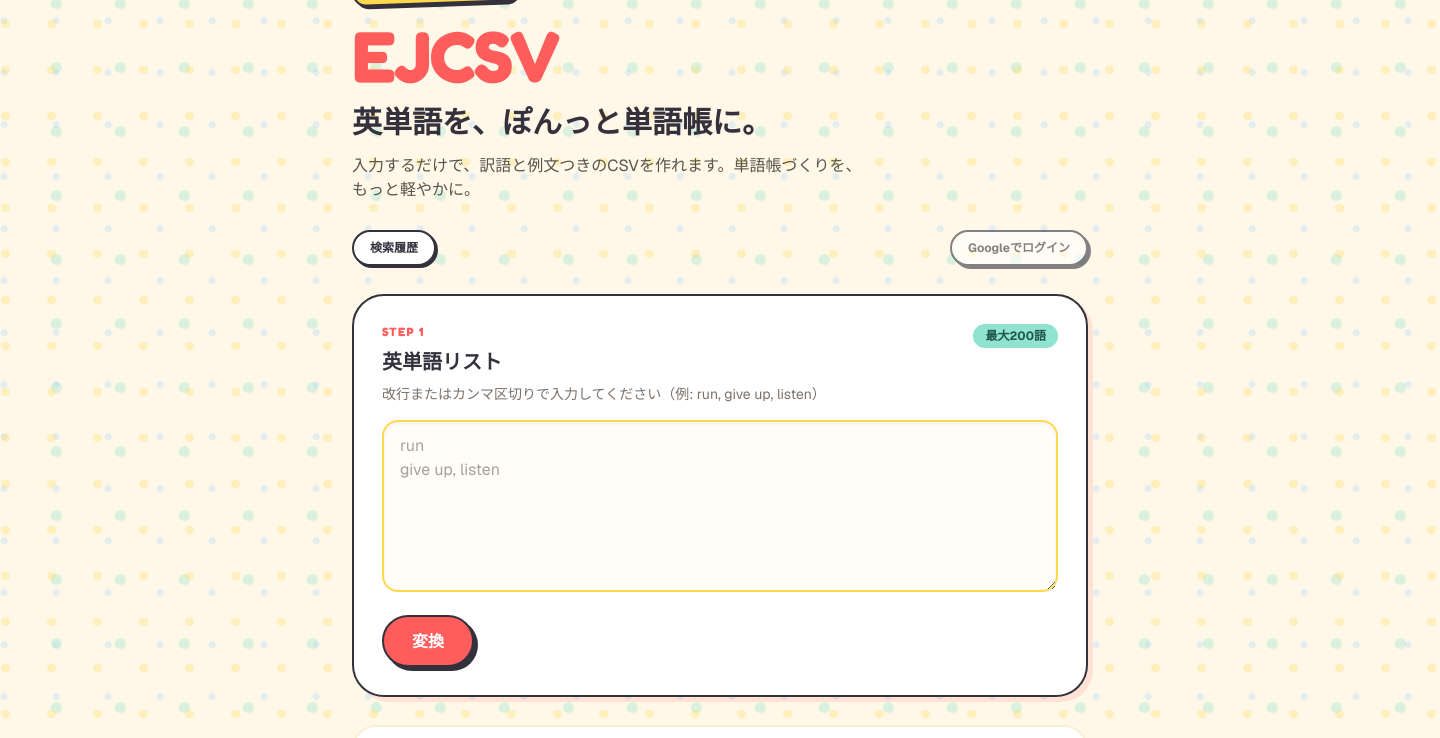
Test: Home page › renders the results table and download button on a successful lookup
Type "run" into the text box at (720, 506), box [382,420,1058,592]
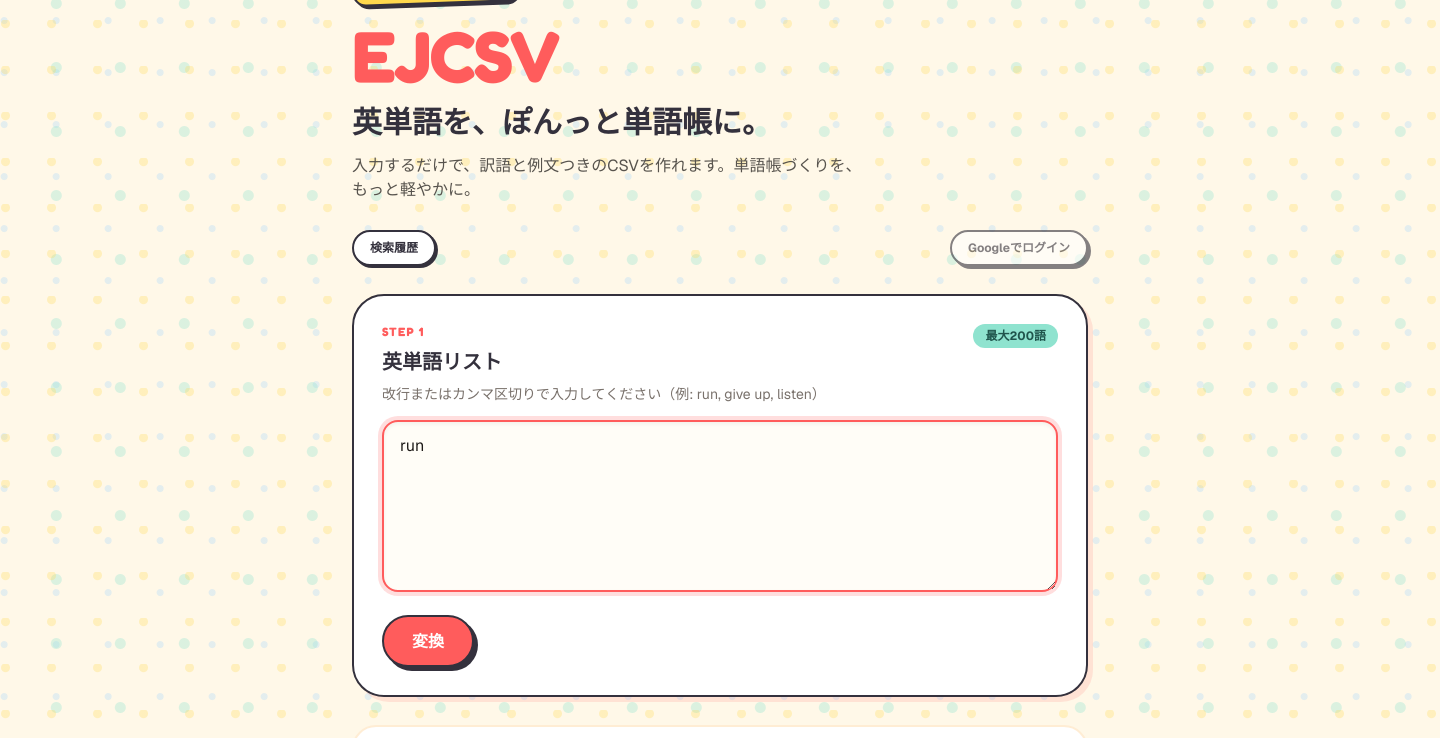
Click the button "変換" at (428, 640), box [382,614,474,666]
(page scrolled)
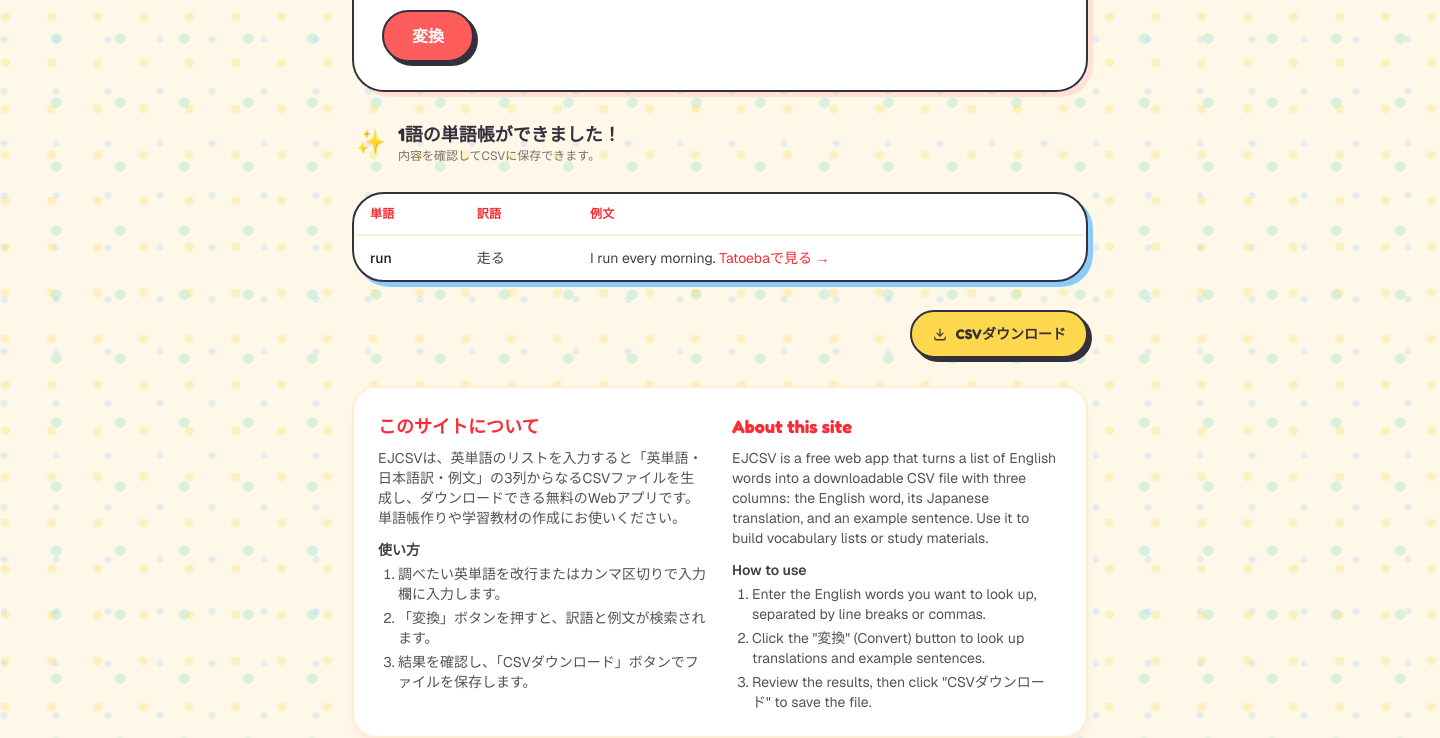
Expected: the text "走る" is shown, [461,234,574,280]
Expected: the button "CSVダウンロード" is shown, [910,310,1088,358]
